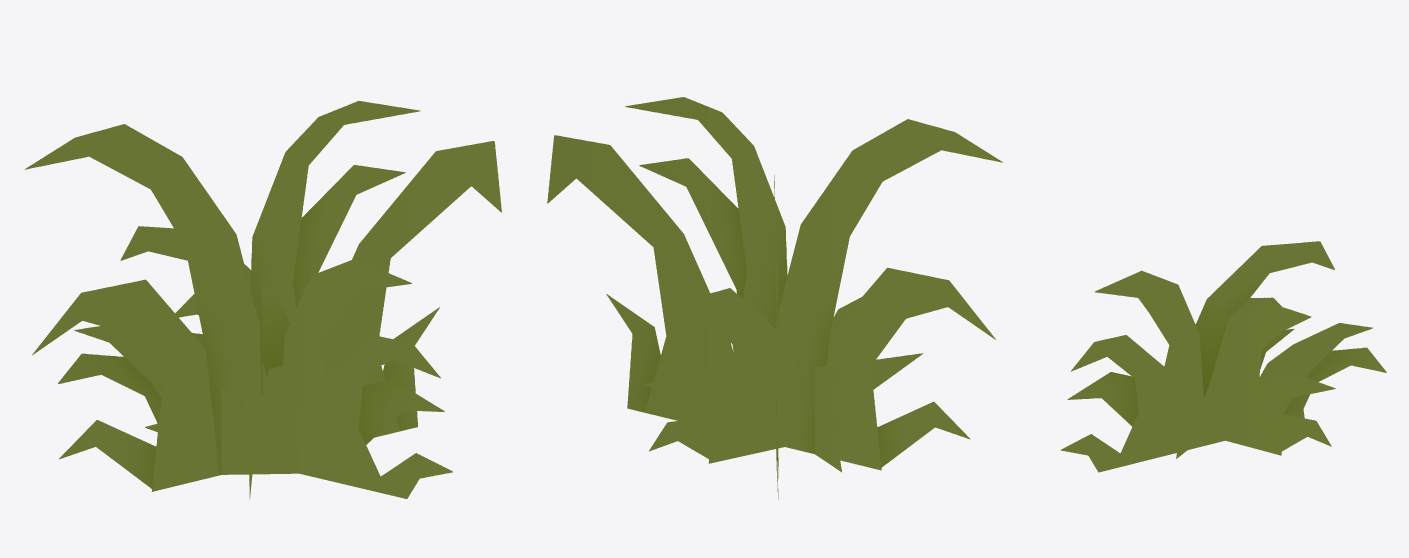
Rendered from SM_Env_Grass_01.fbx.
The picture shows the model from 3 angles, left to right: view 1: azimuth 30°, elevation 25°; view 2: azimuth 150°, elevation 25°; view 3: azimuth 270°, elevation 25°; orthographic projection. The views are drawn at different scales.
Visible parts, largest first — view 1: SM_Env_Grass_01_LOD0; view 2: SM_Env_Grass_01_LOD0; view 3: SM_Env_Grass_01_LOD0.
Boxes of the visible parts, <box> form: SM_Env_Grass_01_LOD0: <box>25,101,501,499</box>; SM_Env_Grass_01_LOD0: <box>547,97,1002,499</box>; SM_Env_Grass_01_LOD0: <box>1060,241,1386,472</box>.
Size of what is drawn, in the model's own units: 55.3 by 41.59 by 40.77.
